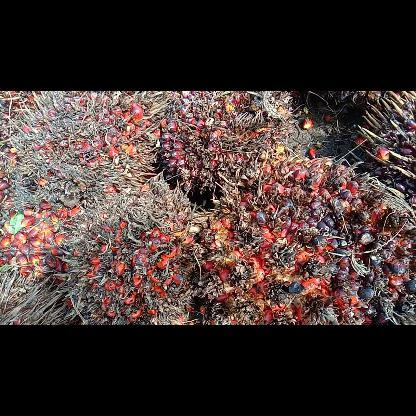Terlalu masak: (192, 152, 414, 324), (50, 172, 212, 324), (0, 91, 169, 218), (154, 90, 300, 194)
